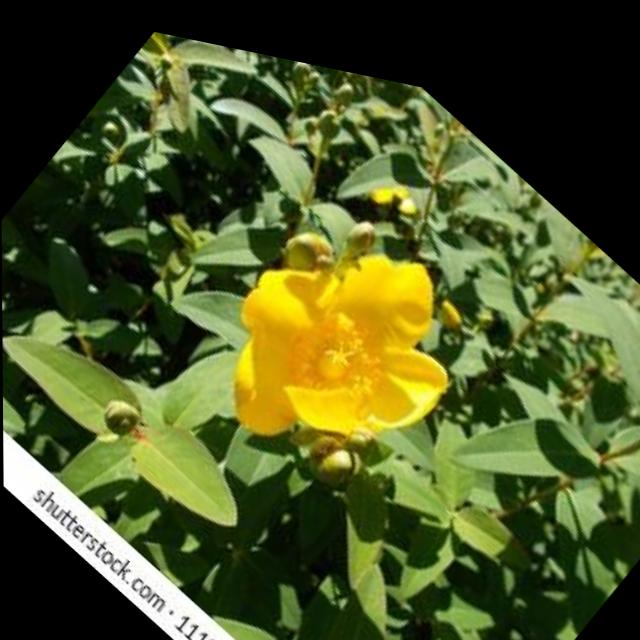Flower: (188, 155, 486, 513)
